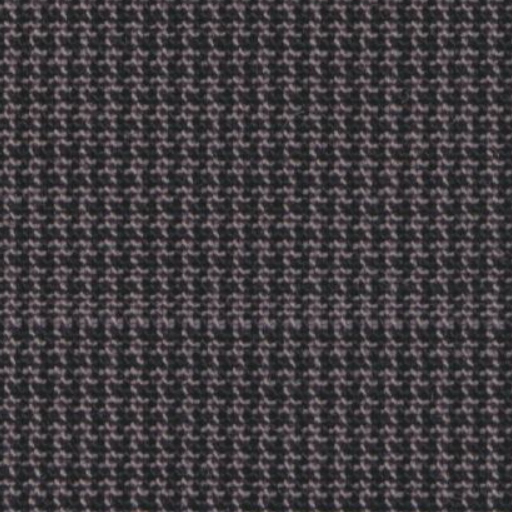TuoSha: (20, 258, 488, 366)
